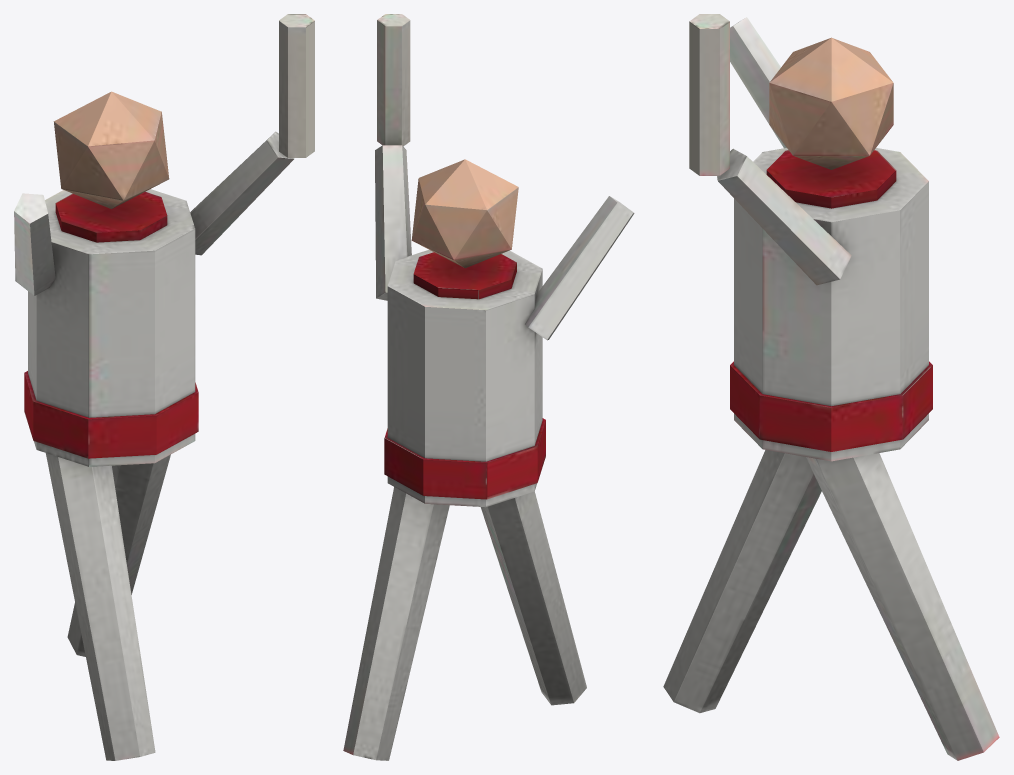
Rendered from mozo.glb.
3 views of the same model, side by side, from view 1: azimuth 30°, elevation 25°; view 2: azimuth 150°, elevation 25°; view 3: azimuth 270°, elevation 25° (orthographic). The views are drawn at different scales.
Visible parts, largest first — view 1: mozo; view 2: mozo; view 3: mozo.
Boxes of the visible parts, left/top/right/bottom form: mozo: left=14, top=14, right=314, bottom=760; mozo: left=343, top=14, right=634, bottom=760; mozo: left=663, top=14, right=999, bottom=760.
Bounding box in the file's own units: 0.9092 × 2.13 × 0.8285.
1 material, 1 textured.
